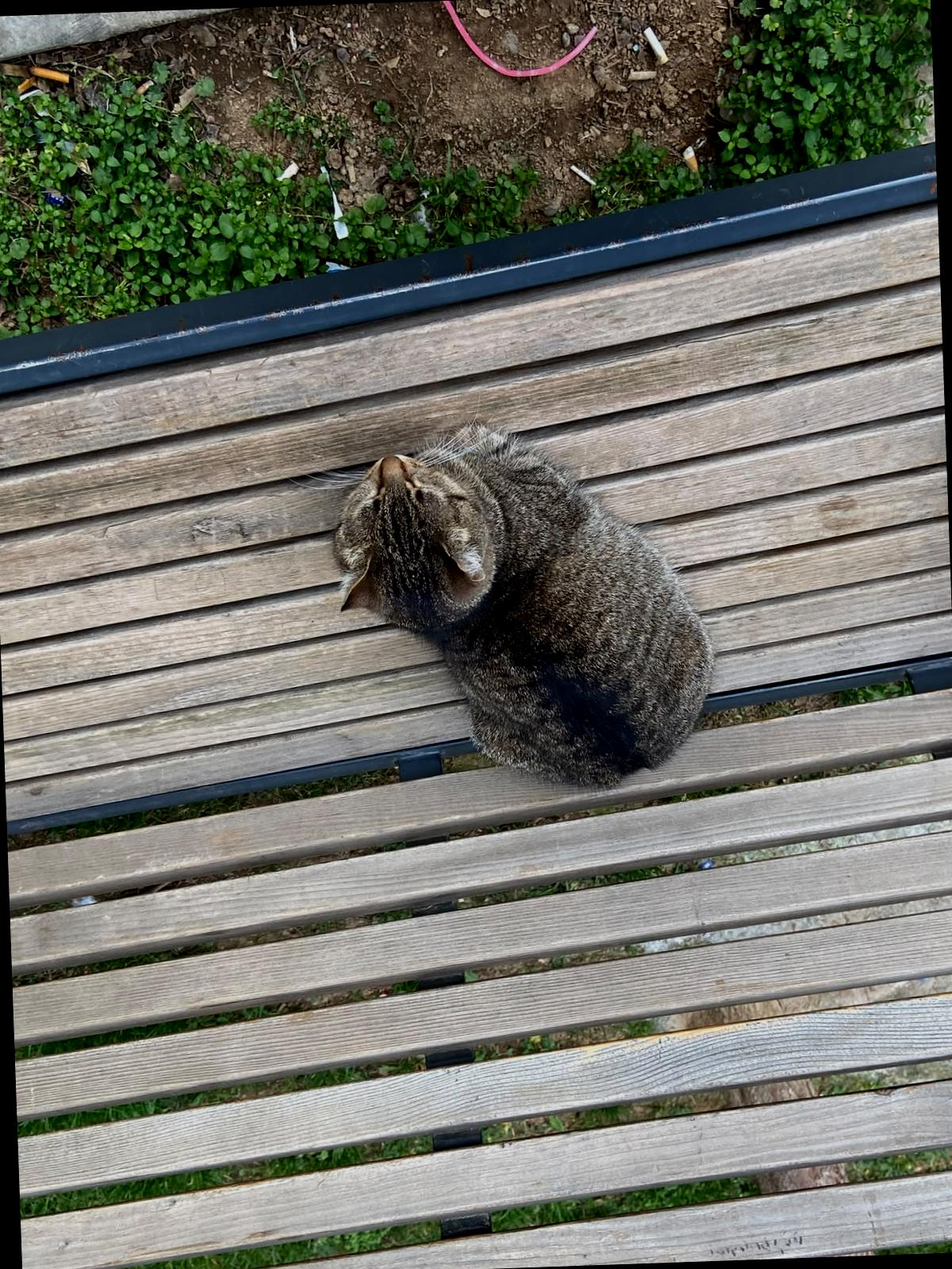macka: (326, 416, 718, 799)
